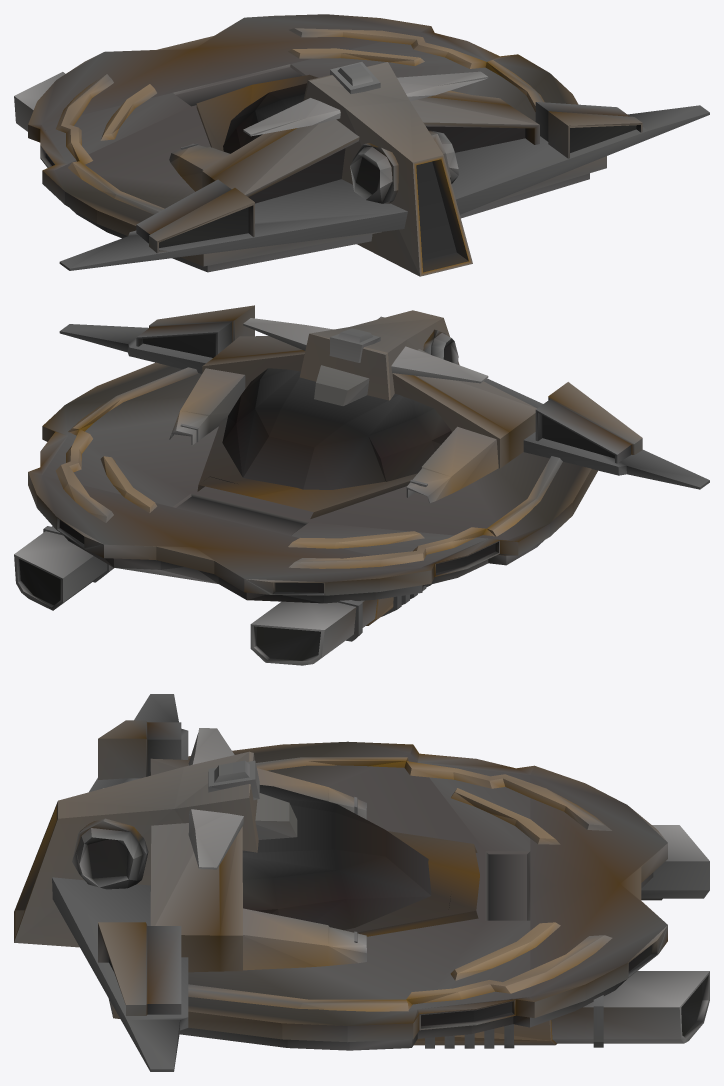
File: pancake.glb
3 views of the same model, one above another, from view 1: azimuth 30°, elevation 25°; view 2: azimuth 150°, elevation 25°; view 3: azimuth 270°, elevation 25° (orthographic). The views are drawn at different scales.
Visible parts, largest first — view 1: Pancake; view 2: Pancake; view 3: Pancake.
Boxes of the visible parts, x1,y1,x2,y2 form: Pancake: (14,14,709,276); Pancake: (14,305,709,665); Pancake: (14,694,709,1071).
Size of the model in its own units: 1 by 0.2474 by 0.7839.
